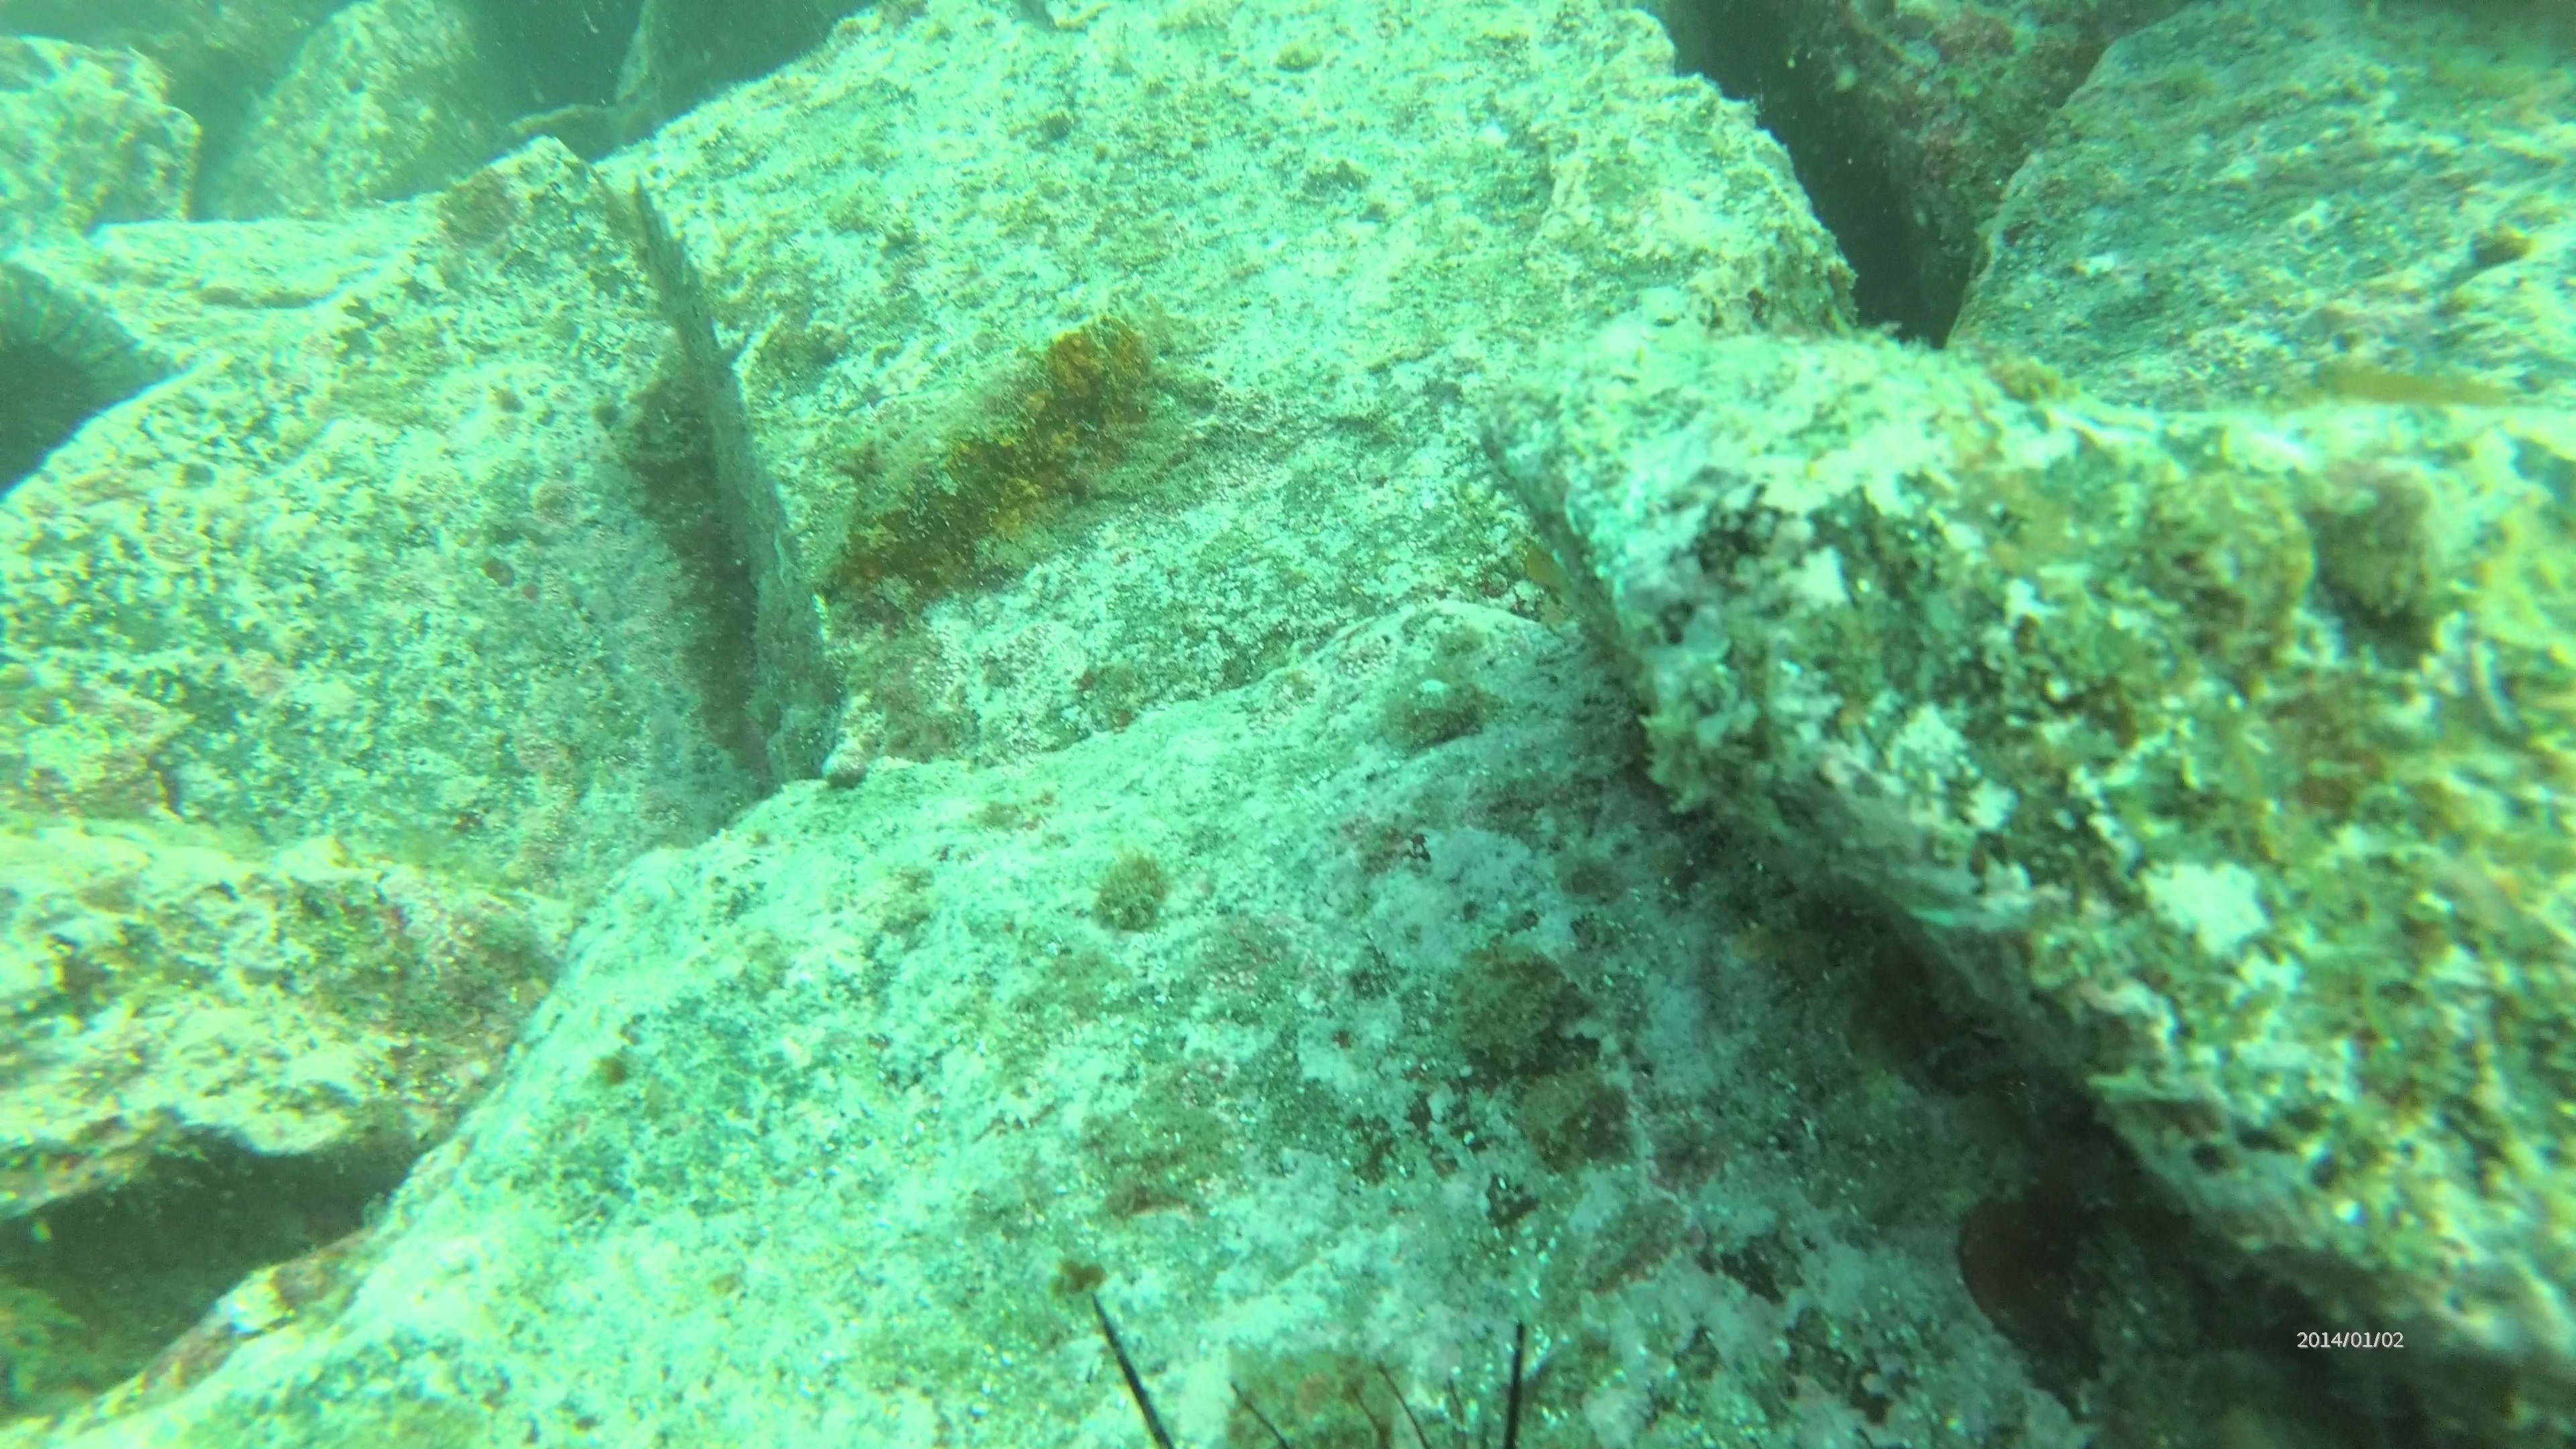echinus: (0, 287, 138, 518)
